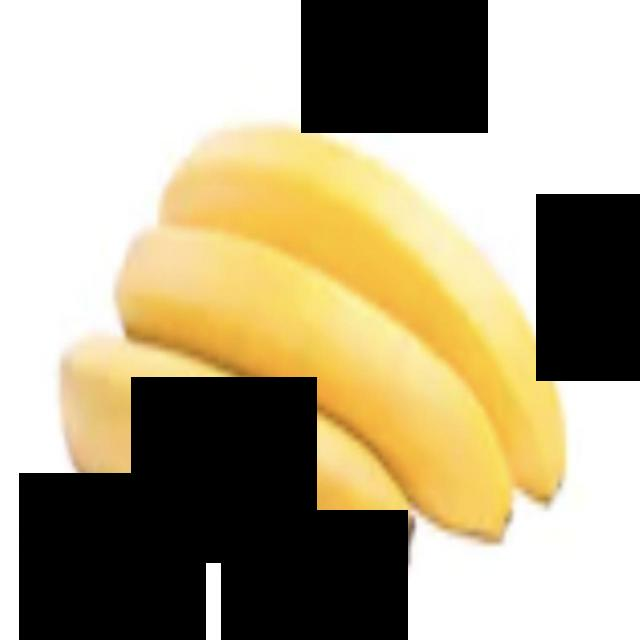banana: (125, 204, 553, 603), (152, 112, 570, 520), (54, 316, 460, 612)
